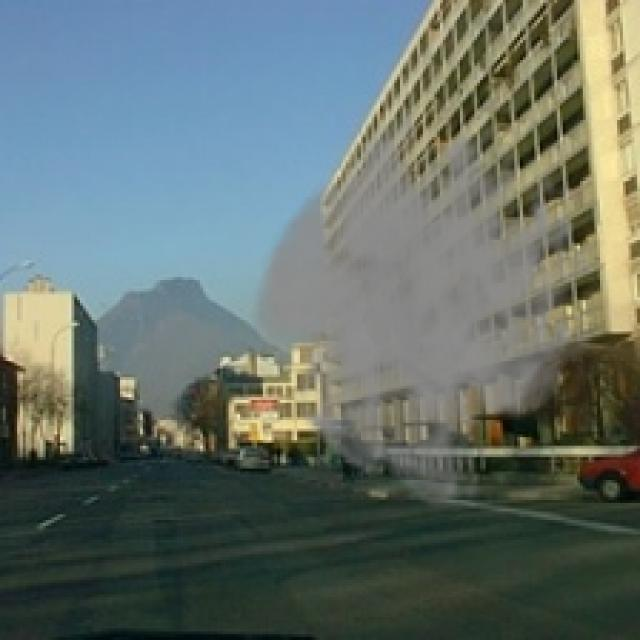smoke: (249, 94, 594, 517)
